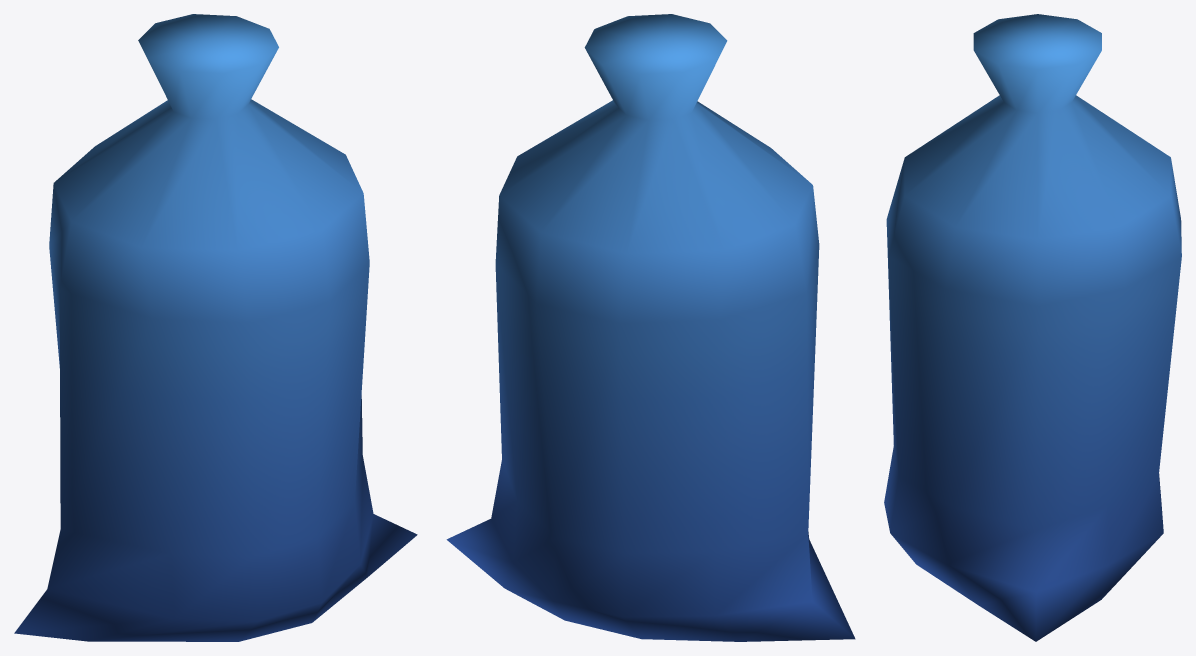
Rendered from IcicleBag.fbx.
The picture shows the model from 3 angles, left to right: view 1: azimuth 30°, elevation 25°; view 2: azimuth 150°, elevation 25°; view 3: azimuth 270°, elevation 25°; orthographic projection. The views are drawn at different scales.
Visible parts, largest first — view 1: Ice_Bag; view 2: Ice_Bag; view 3: Ice_Bag.
Part boxes in pixels (x1,y1,x2,y2): Ice_Bag: [14, 14, 417, 641]; Ice_Bag: [446, 14, 855, 641]; Ice_Bag: [884, 14, 1181, 641].
Size of the model in its own units: 219 by 280 by 150.
